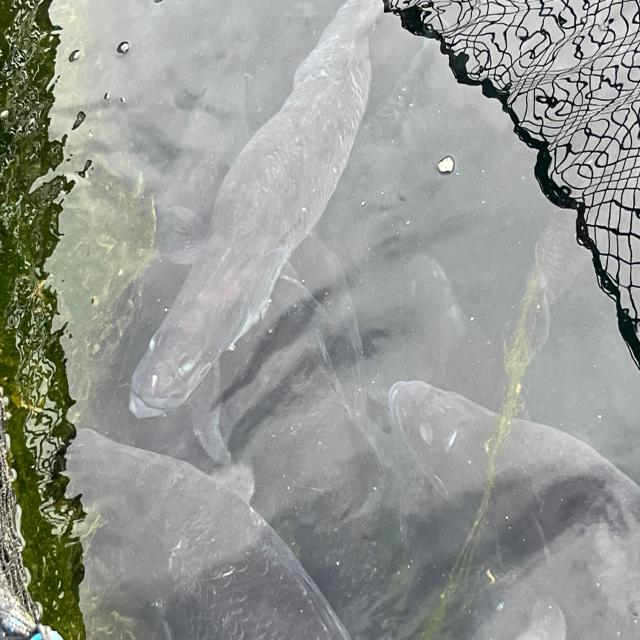ikan: (126, 0, 384, 421), (387, 377, 639, 638), (62, 426, 351, 638)
